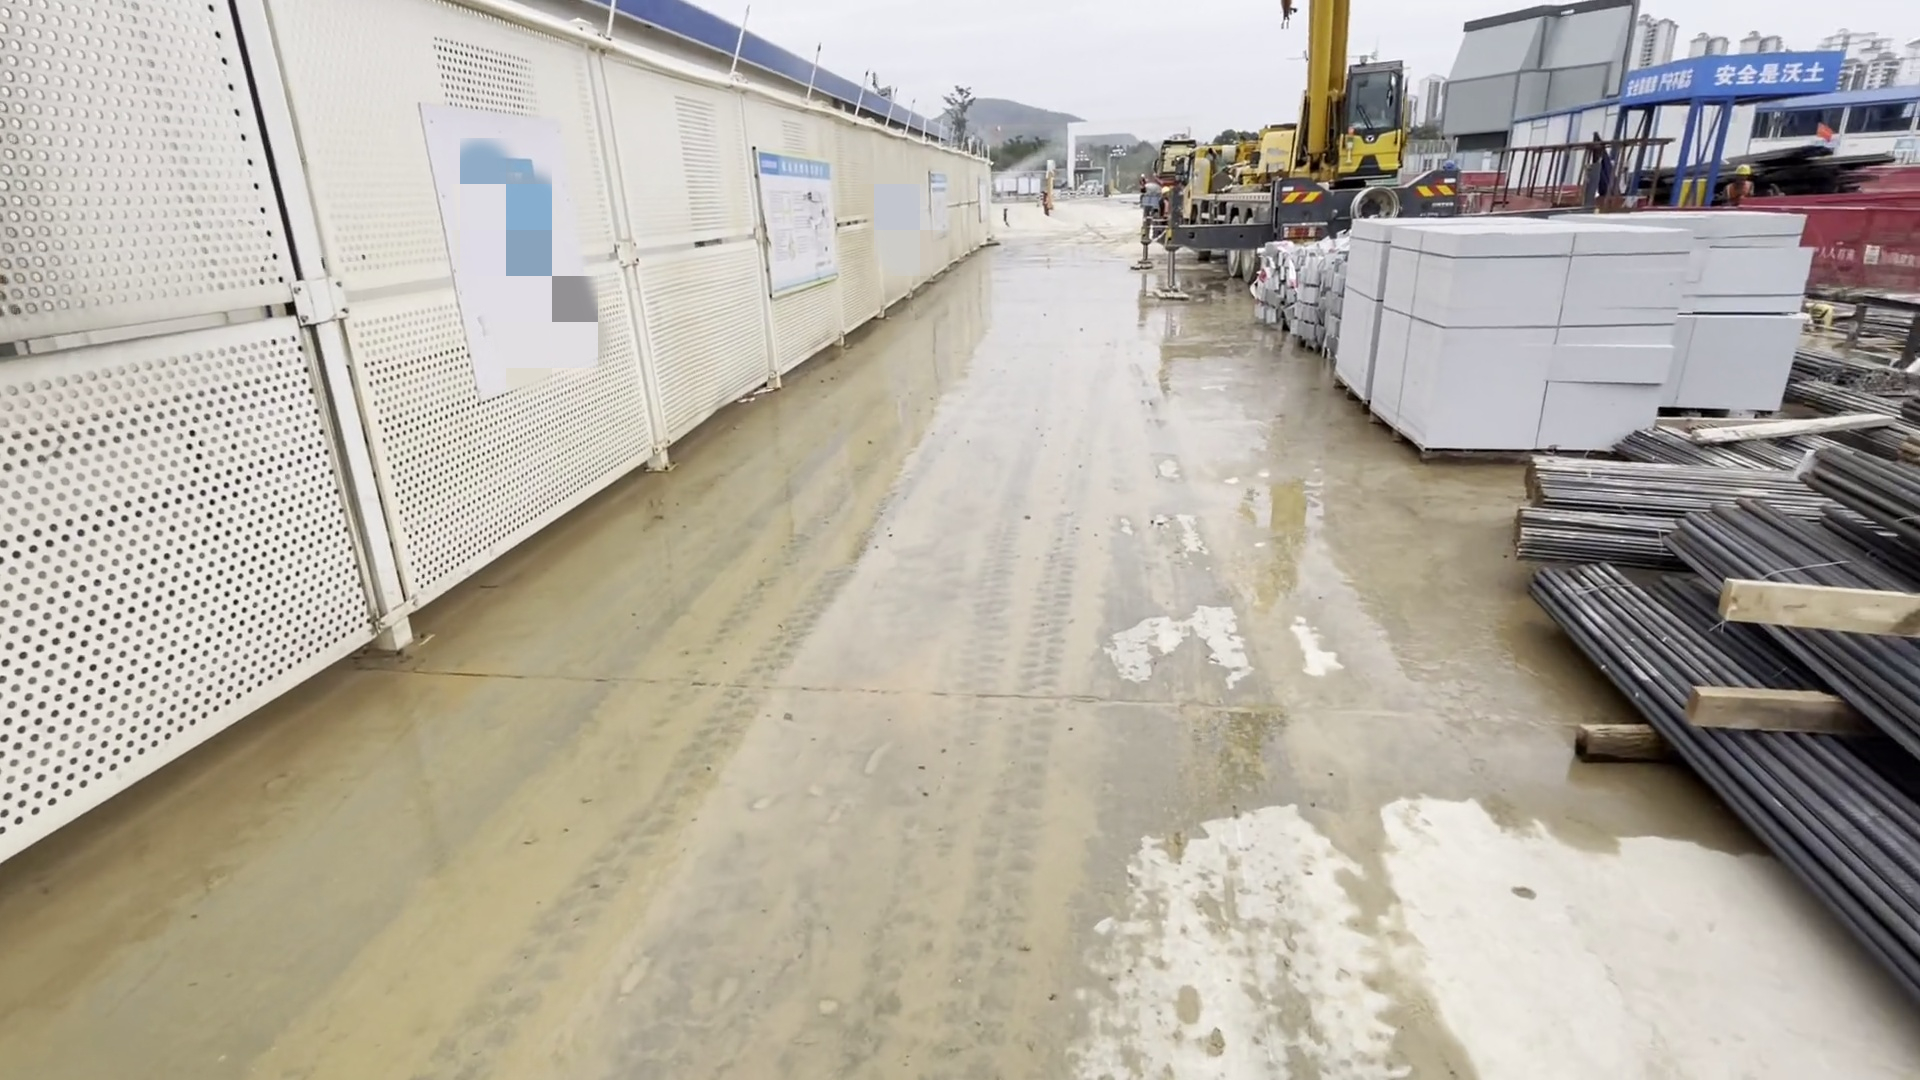brick: (1345, 222, 1812, 444)
slogan: (752, 149, 841, 295), (1607, 57, 1855, 105)
